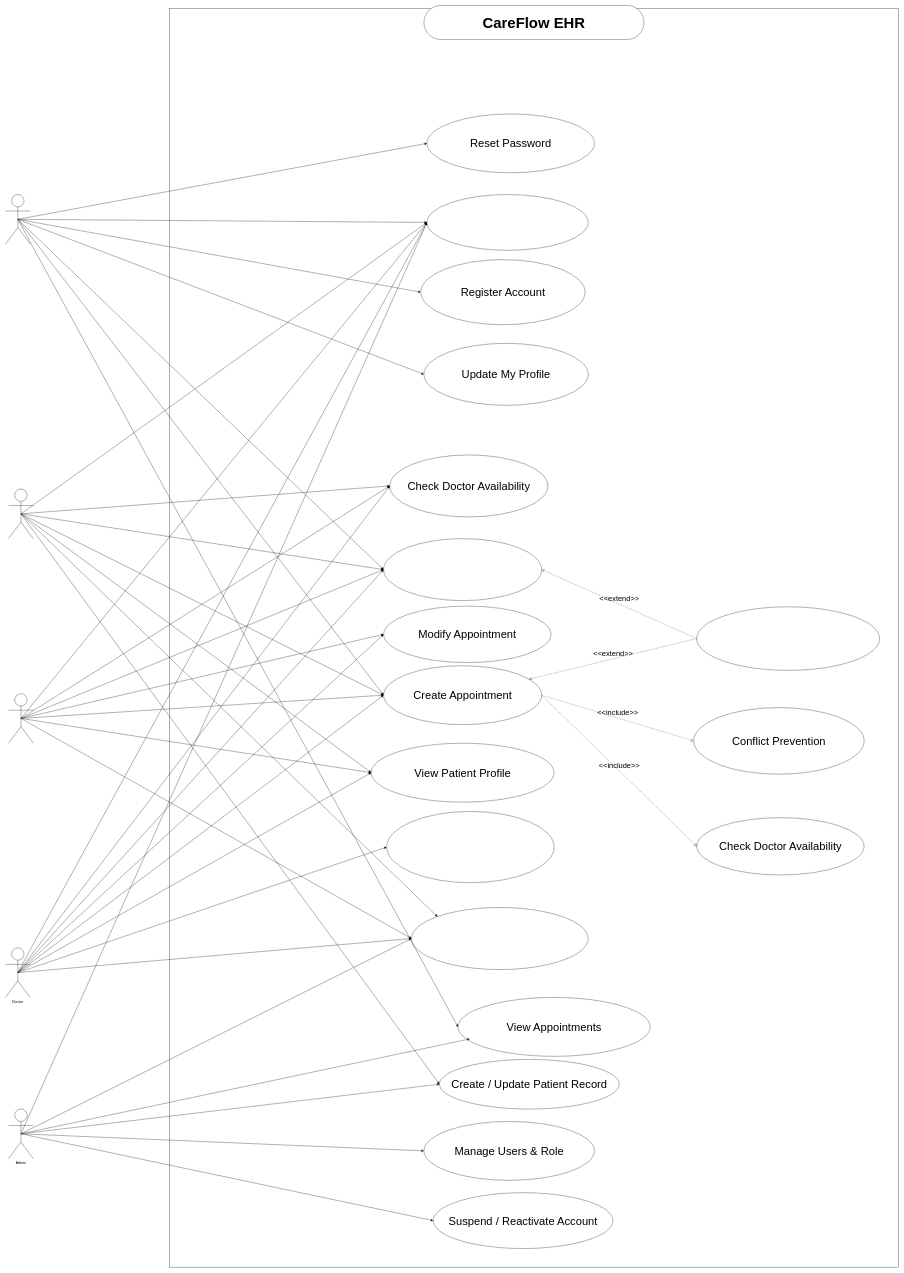
Some shapes in this 904 by 1273 pixel diagram are drawn without their labels. The centre of each missing label's shape, as x and y in pixels:
"Cancel Appointment" goes at point (462, 569).
"Login" goes at point (507, 222).
"Mark Appointment Completed" goes at point (470, 847).
"Nurse" goes at point (20, 718).
"Patient" goes at point (17, 219).
"Search / Filter Patients" goes at point (499, 938).
"Secretary" goes at point (20, 514).
"Send Email Notification" goes at point (788, 638).
